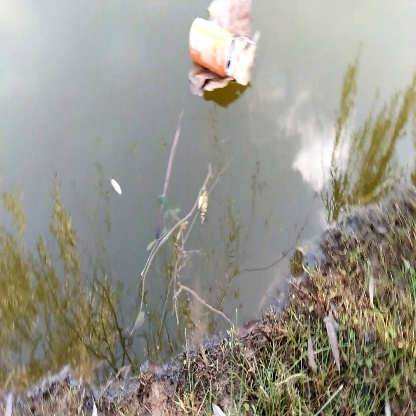bottle: (183, 14, 240, 76)
